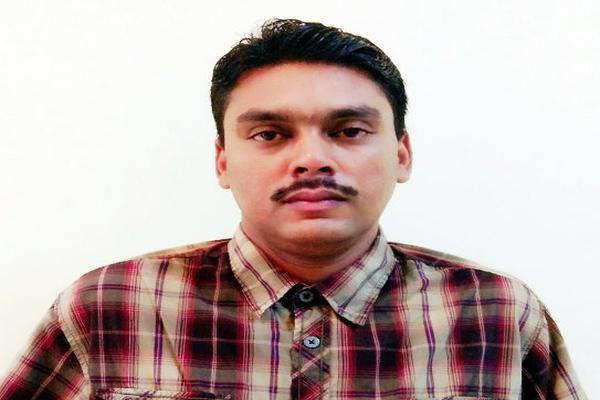Indian: (229, 75, 396, 240)
